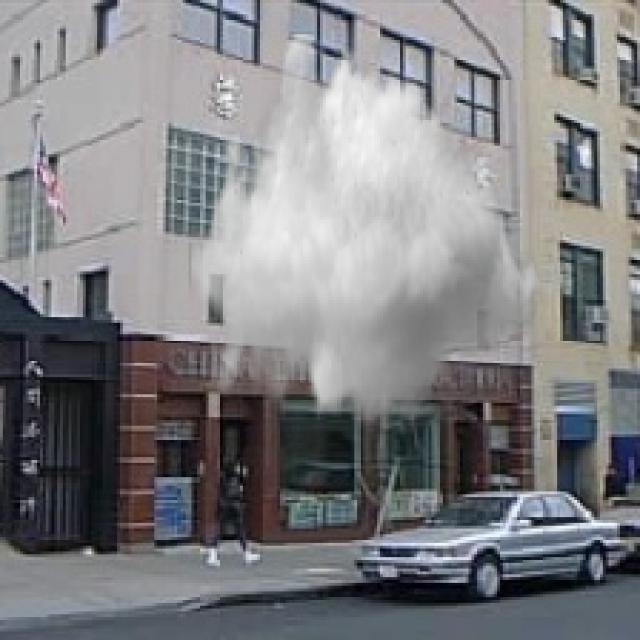smoke: (188, 31, 548, 432)
